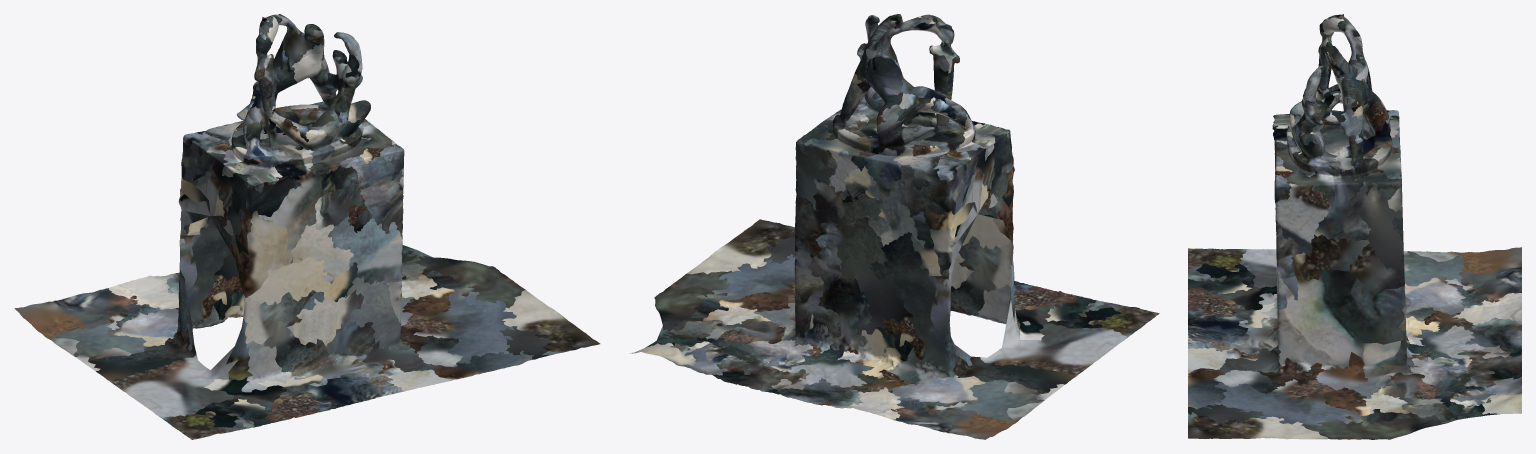
The model's file is war_and_flight.obj.
3 renders of one model, left to right at view 1: azimuth 30°, elevation 25°; view 2: azimuth 150°, elevation 25°; view 3: azimuth 270°, elevation 25°, orthographic. The views are drawn at different scales.
Parts seen in each view (by area): view 1: Object; view 2: Object; view 3: Object.
Part boxes in pixels (x1,y1,x2,y2): Object: [14, 14, 600, 439]; Object: [629, 14, 1159, 439]; Object: [1188, 14, 1521, 439].
Size of the model in its own units: 2.12 by 1.65 by 1.6.
